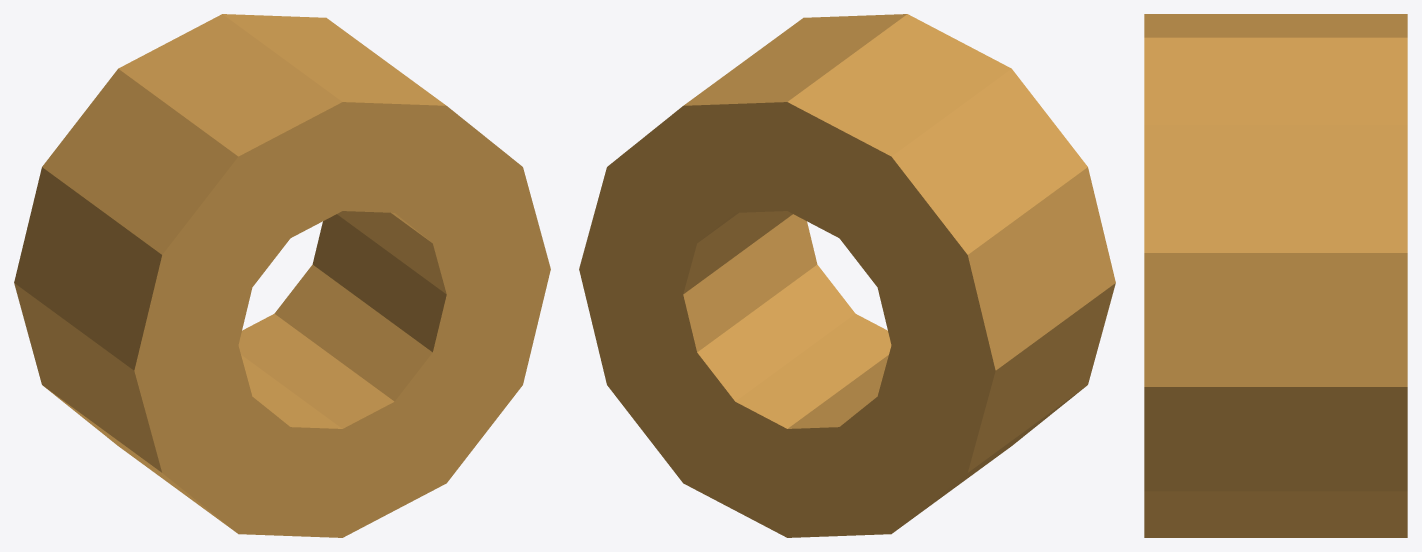
The model's file is wheel2.glb.
3 renders of one model, left to right at view 1: azimuth 30°, elevation 25°; view 2: azimuth 150°, elevation 25°; view 3: azimuth 270°, elevation 25°, orthographic. The views are drawn at different scales.
Parts seen in each view (by area): view 1: Mesh_Mesh_head_geo.001_lambert2SG.001; view 2: Mesh_Mesh_head_geo.001_lambert2SG.001; view 3: Mesh_Mesh_head_geo.001_lambert2SG.001.
Boxes of the visible parts, box(x1,y1,x2,y2) form: Mesh_Mesh_head_geo.001_lambert2SG.001: box(14, 14, 550, 537); Mesh_Mesh_head_geo.001_lambert2SG.001: box(579, 14, 1115, 537); Mesh_Mesh_head_geo.001_lambert2SG.001: box(1144, 14, 1407, 537).
Bounding box in the file's own units: 4 × 4 × 2.
